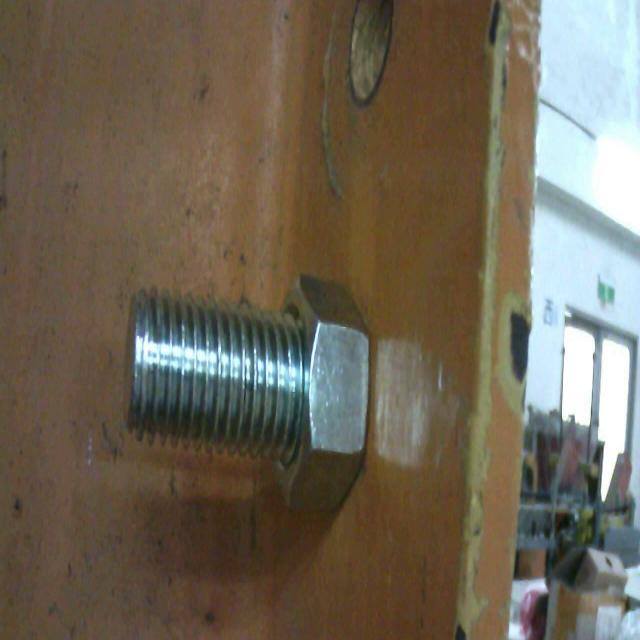Missing bolt: (347, 1, 397, 109)
Regular bolt: (121, 269, 377, 521)
